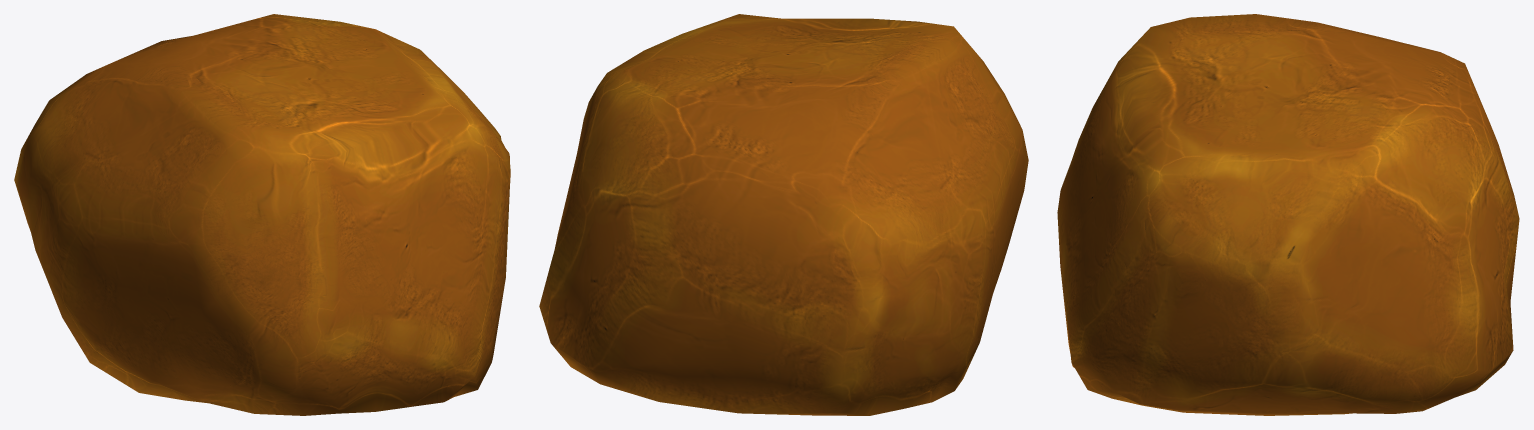
The model's file is Boulder.FBX.
The picture shows the model from 3 angles, left to right: view 1: azimuth 30°, elevation 25°; view 2: azimuth 150°, elevation 25°; view 3: azimuth 270°, elevation 25°; orthographic projection. The views are drawn at different scales.
Visible parts, largest first — view 1: Boulder; view 2: Boulder; view 3: Boulder.
Part boxes in pixels (box(x1,y1,x2,y2)): Boulder: box(14, 14, 510, 415); Boulder: box(539, 14, 1028, 415); Boulder: box(1057, 14, 1519, 415).
Size of the model in its own units: 0.9259 by 0.6383 by 0.908.
